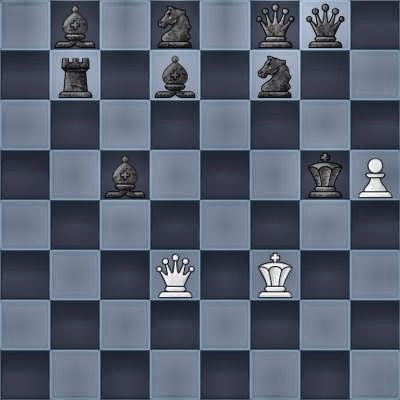black-bishop: (50, 0, 100, 50), (150, 50, 200, 100), (100, 150, 150, 200)
black-king: (300, 150, 350, 200)
black-knight: (150, 0, 200, 50), (250, 50, 300, 100)
black-queen: (250, 0, 300, 50), (300, 0, 350, 50)
black-rook: (50, 50, 100, 100)
white-king: (250, 250, 300, 300)
white-pawn: (350, 150, 400, 200)
white-queen: (150, 250, 200, 300)
